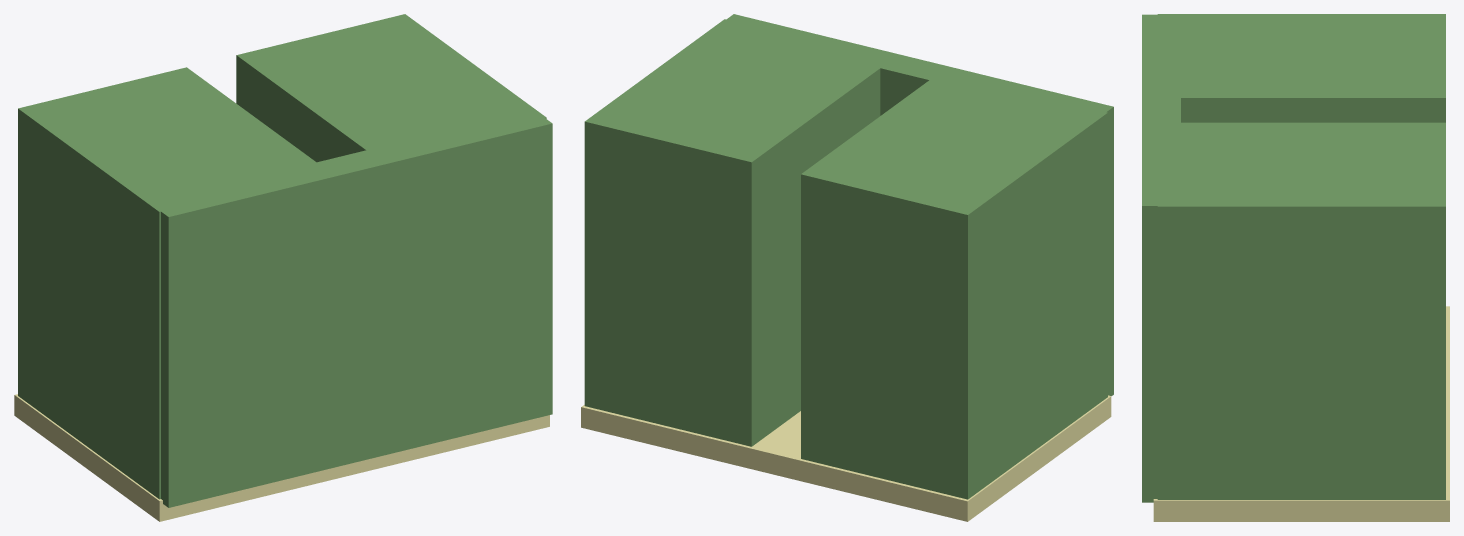
The model's file is elfico_saia.glb.
3 views of the same model, side by side, from view 1: azimuth 30°, elevation 25°; view 2: azimuth 150°, elevation 25°; view 3: azimuth 270°, elevation 25° (orthographic). The views are drawn at different scales.
Visible parts, largest first — view 1: elfico_saia; view 2: elfico_saia; view 3: elfico_saia.
Boxes of the visible parts, x1,y1,x2,y2 form: elfico_saia: (14, 14, 552, 521); elfico_saia: (581, 14, 1113, 521); elfico_saia: (1142, 14, 1449, 521).
Bounding box in the file's own units: 0.59 × 0.445 × 0.395.
